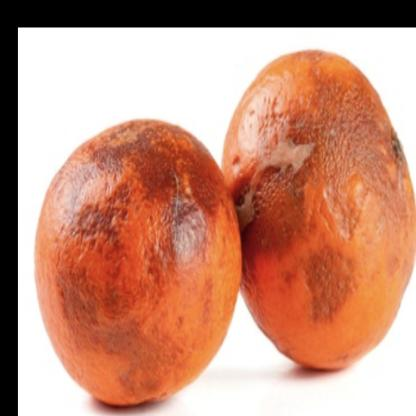rotten: (35, 47, 416, 416)
